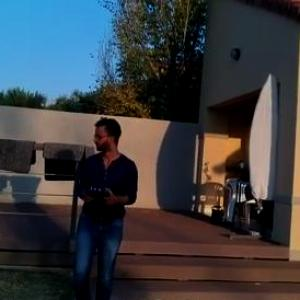follow: (68, 112, 142, 299)
